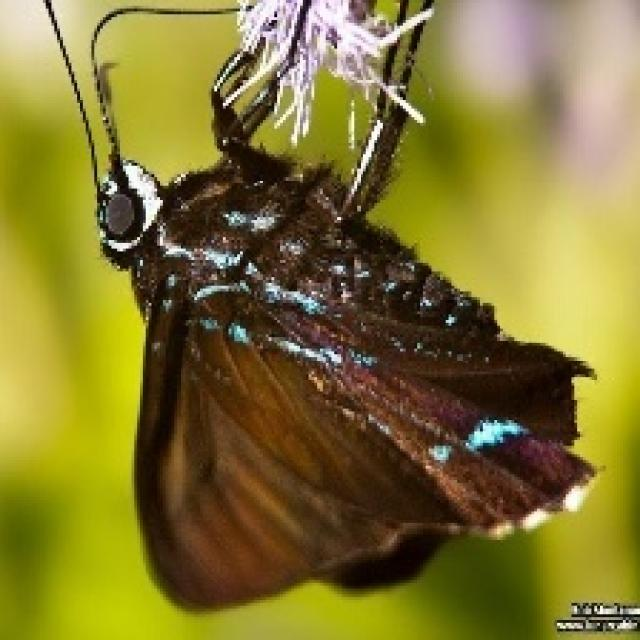butterfly: (34, 0, 602, 614)
